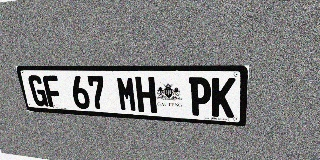6: (69, 76, 91, 109)
7: (86, 76, 108, 110)
F: (42, 75, 64, 108)
G: (27, 75, 49, 107)
H: (135, 76, 157, 113)
K: (212, 77, 236, 118)
M: (116, 76, 138, 112)
P: (189, 77, 211, 116)
